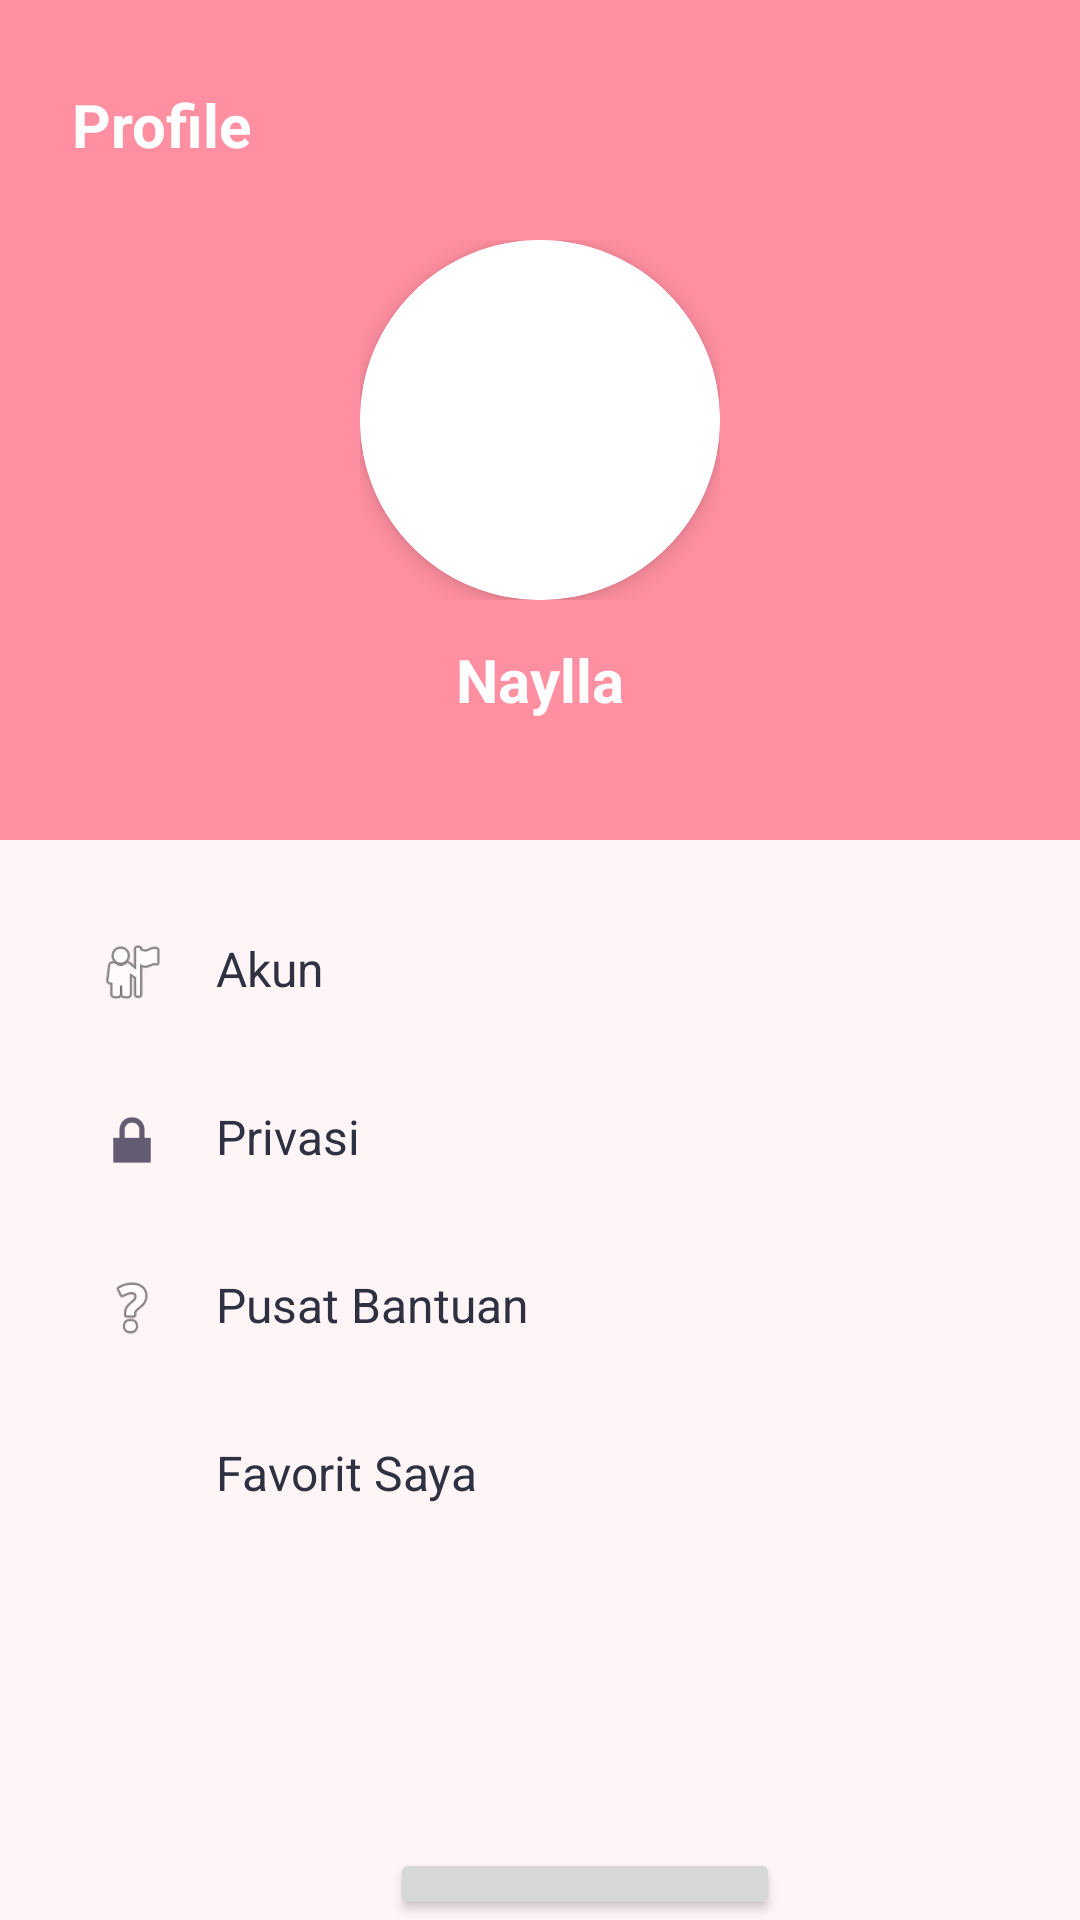

Icons on this 1080 × 1920 Android screen, each with its box as (x1, y1, x2, y2):
help: (116, 1282, 148, 1334)
lock: (113, 1117, 151, 1163)
myplaces: (106, 945, 160, 999)
